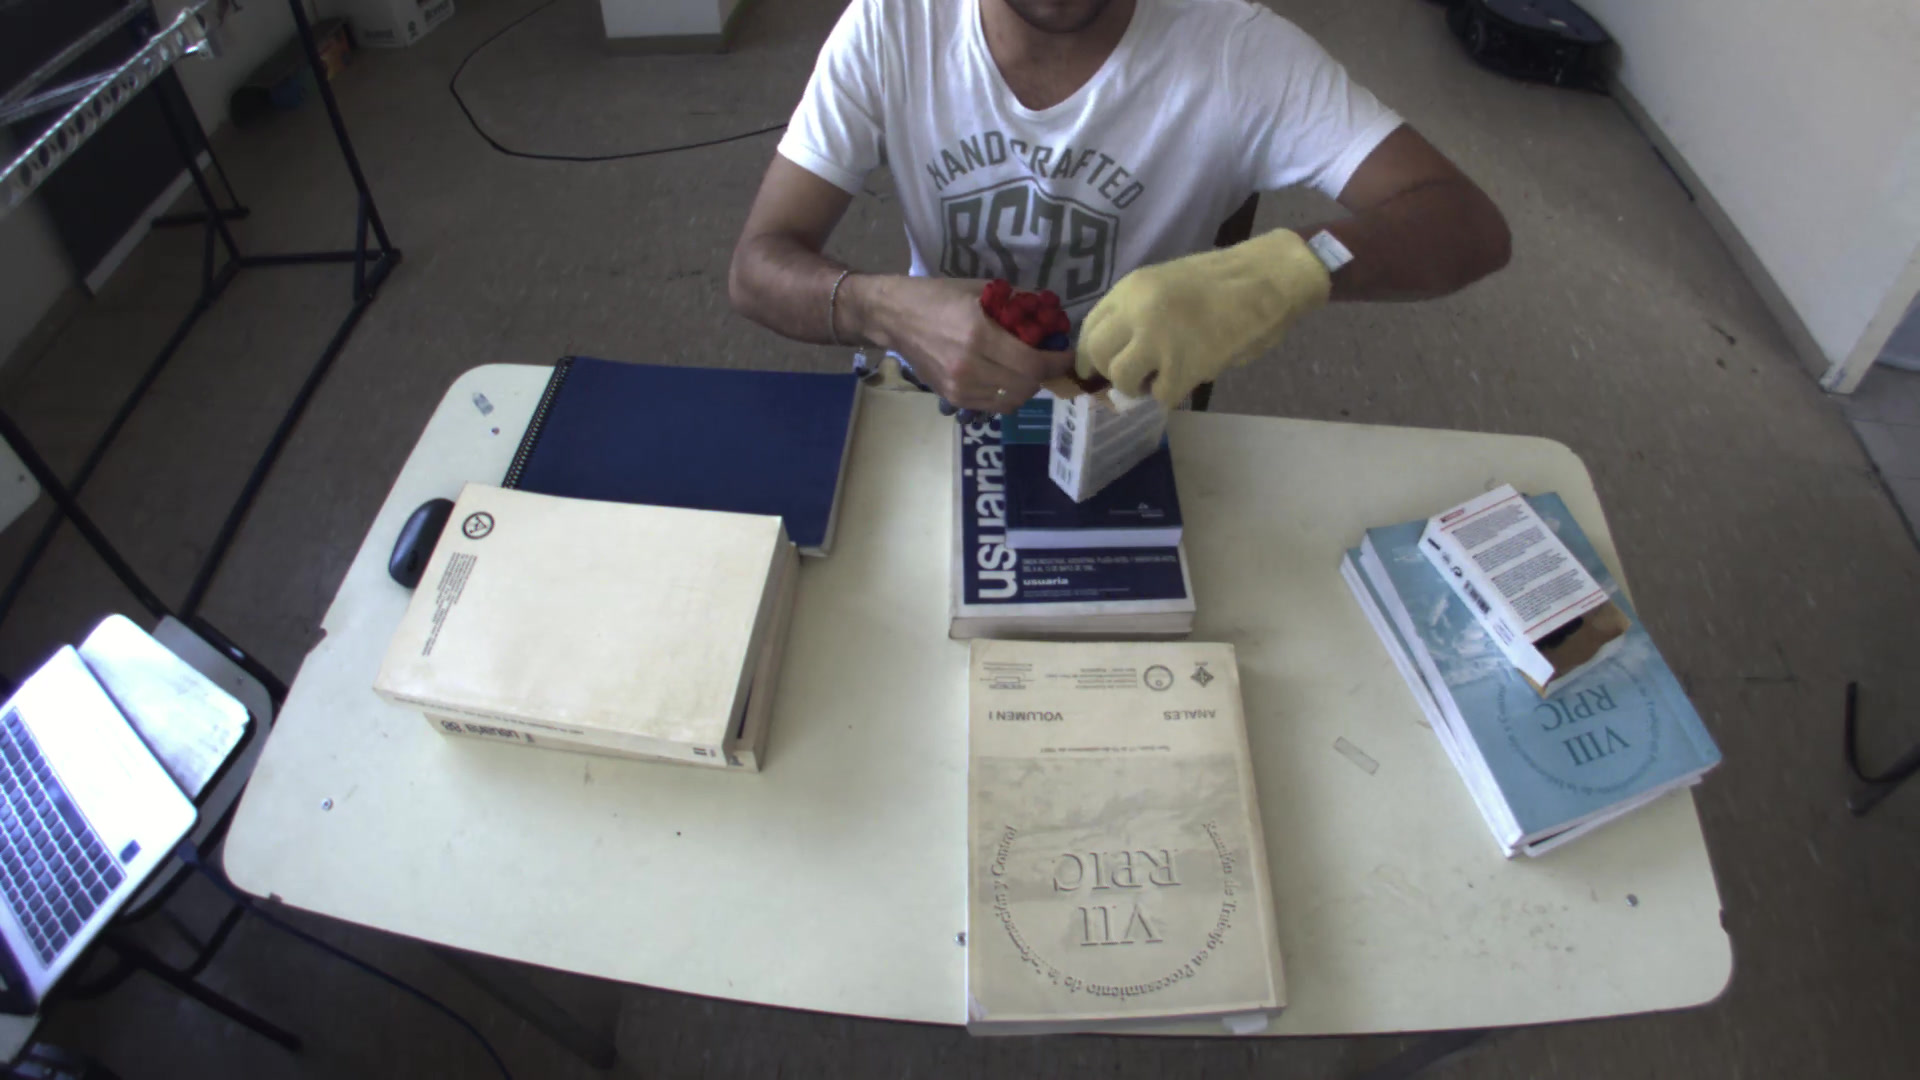hand: (1065, 211, 1345, 404), (855, 265, 1091, 418)
